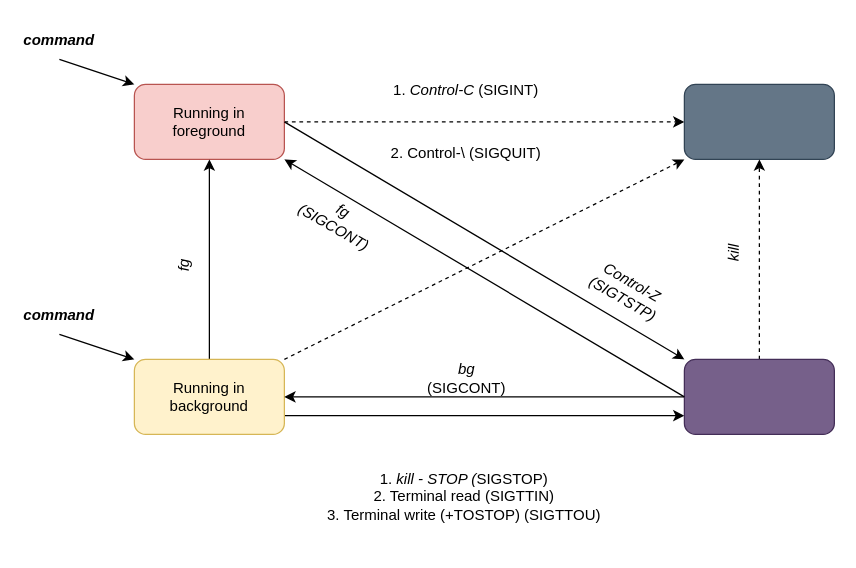
Some shapes in this 856 by 568 pixel diagram are drawn without their labels. Each missing label, with the centre of its shape:
"Stopped in background" goes at (758,396).
"Terminated" goes at (758,121).
